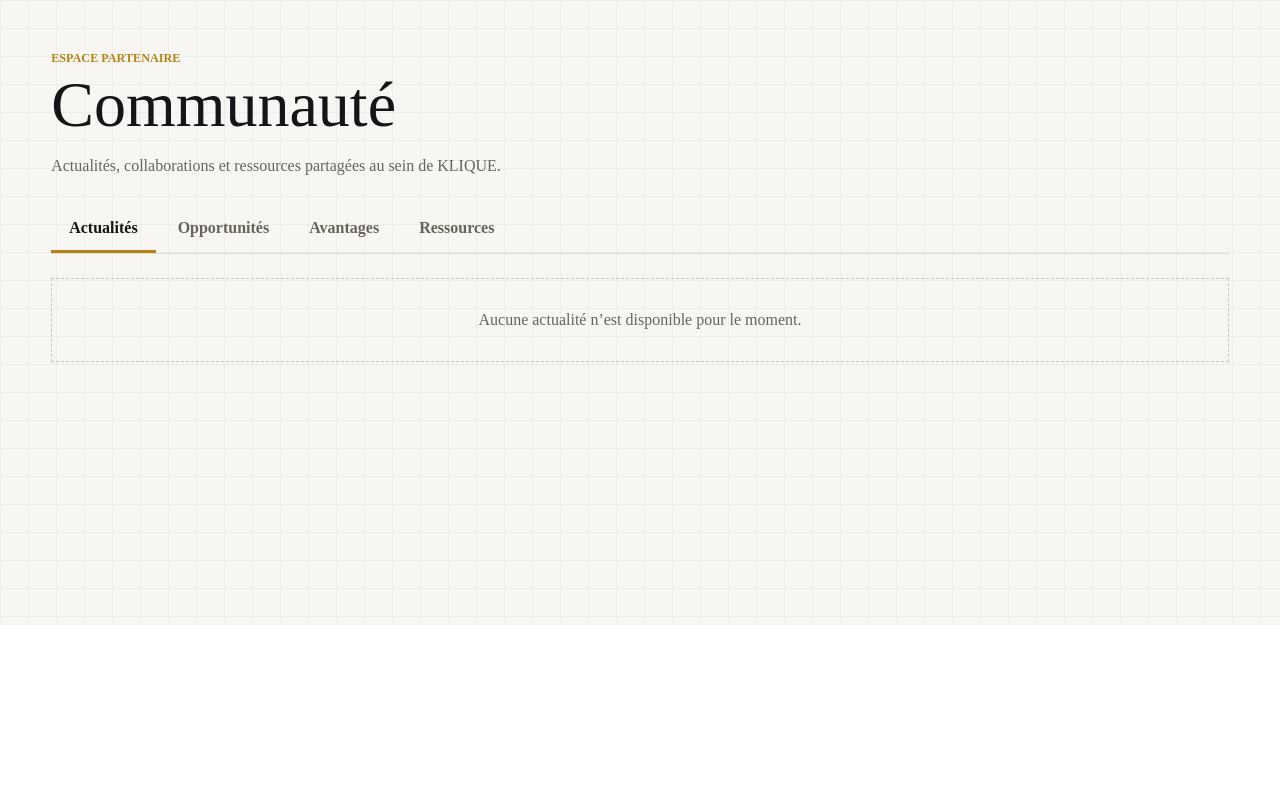
Test: PartnerCommunityPage › shows an empty state for every tab
Step 1. Click the tab "Opportunités" → (223, 230), box [160,206,287,252]
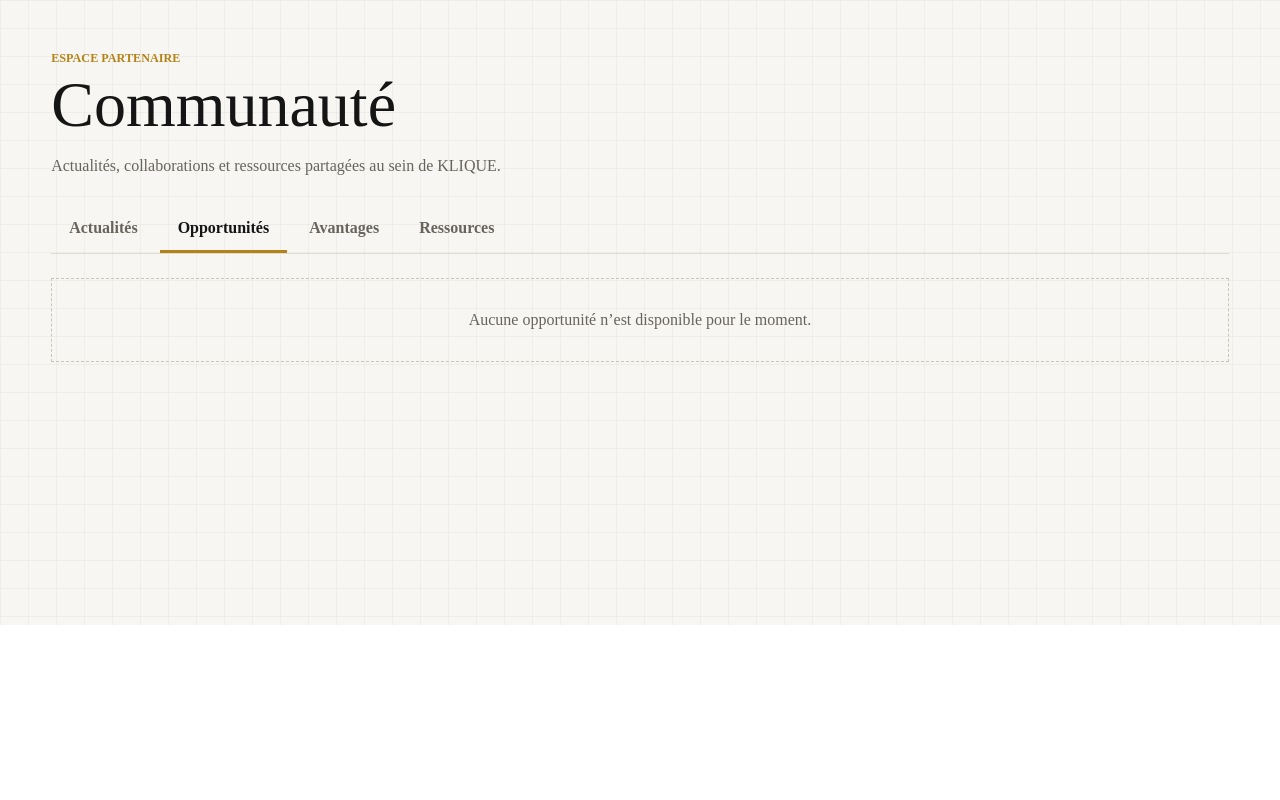
Result: the text "Aucune opportunité" is shown at [469,310,811,328]
Step 2. Click the tab "Avantages" → (344, 230), box [291,206,397,252]
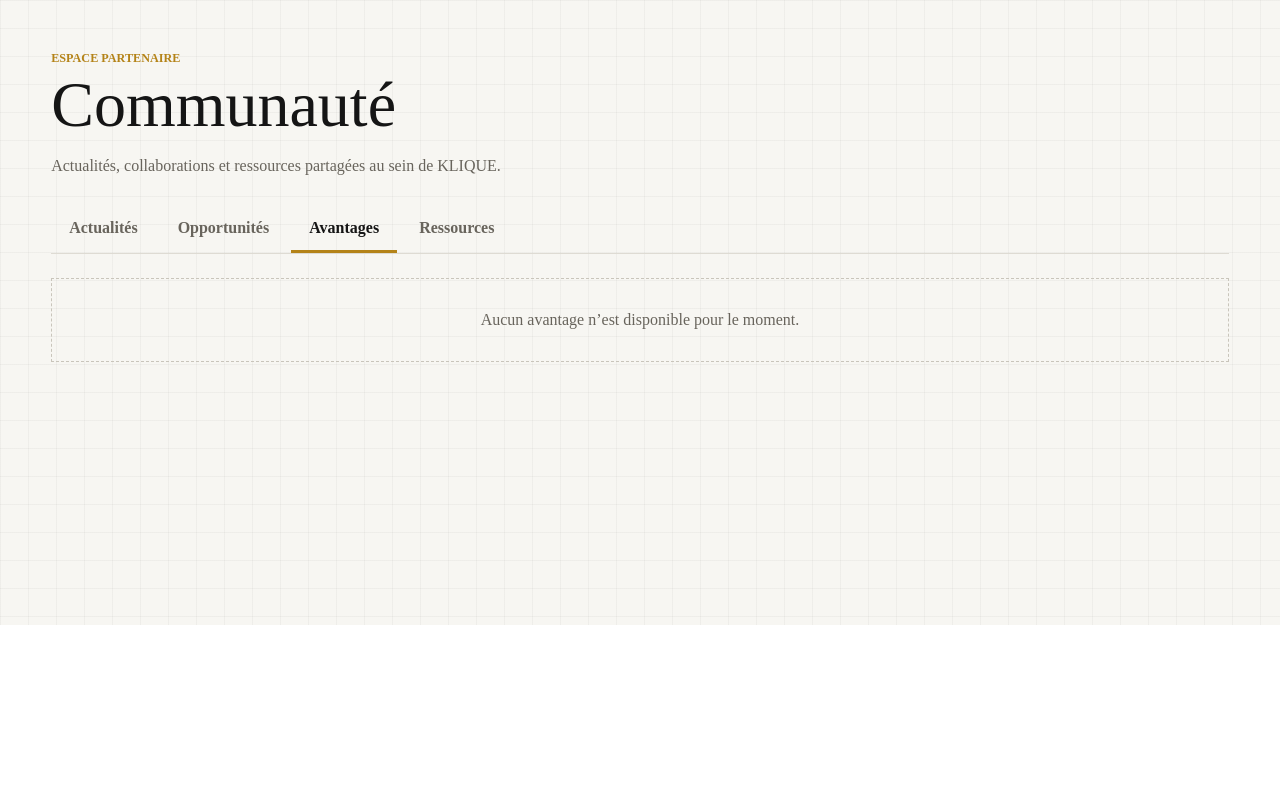
Result: the text "Aucun avantage" is shown at [481,310,799,328]
Step 3. Click the tab "Ressources" → (457, 230), box [401,206,512,252]
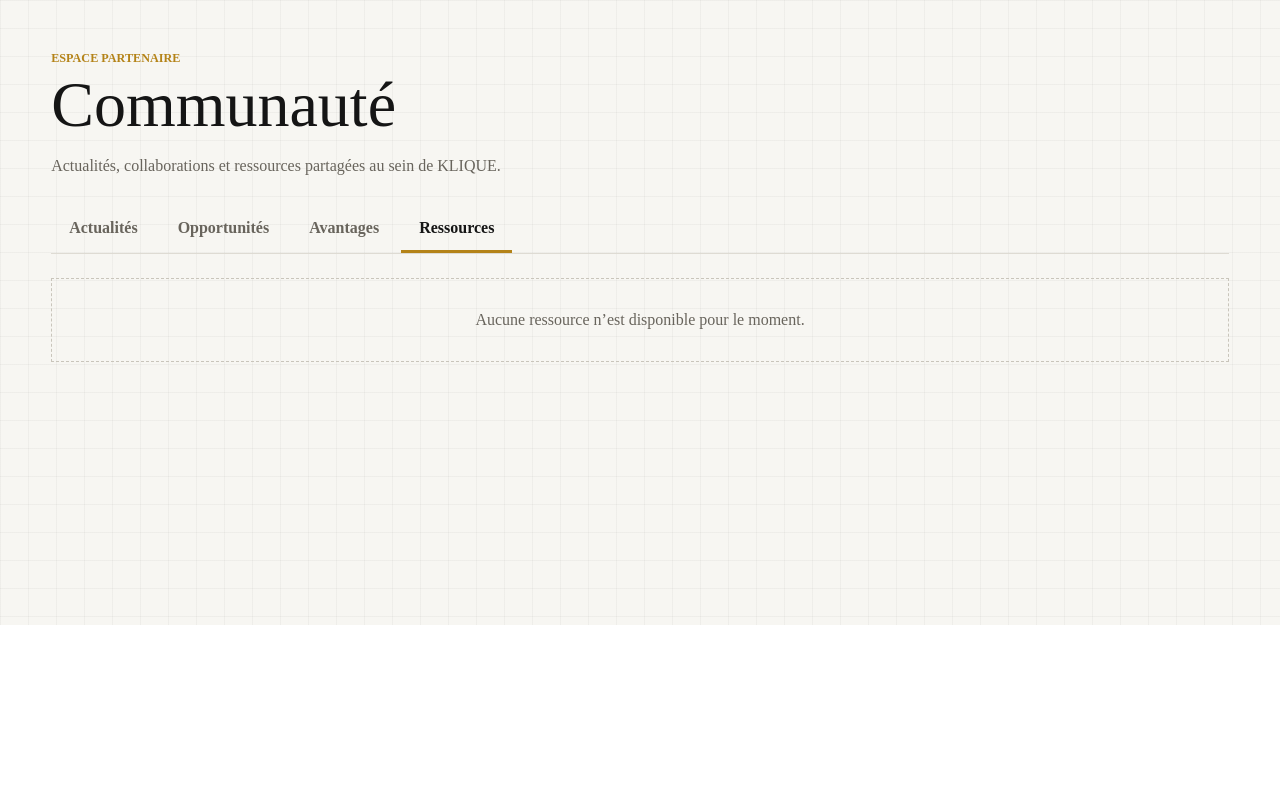
Result: the text "Aucune ressource" is shown at [475,310,805,328]
